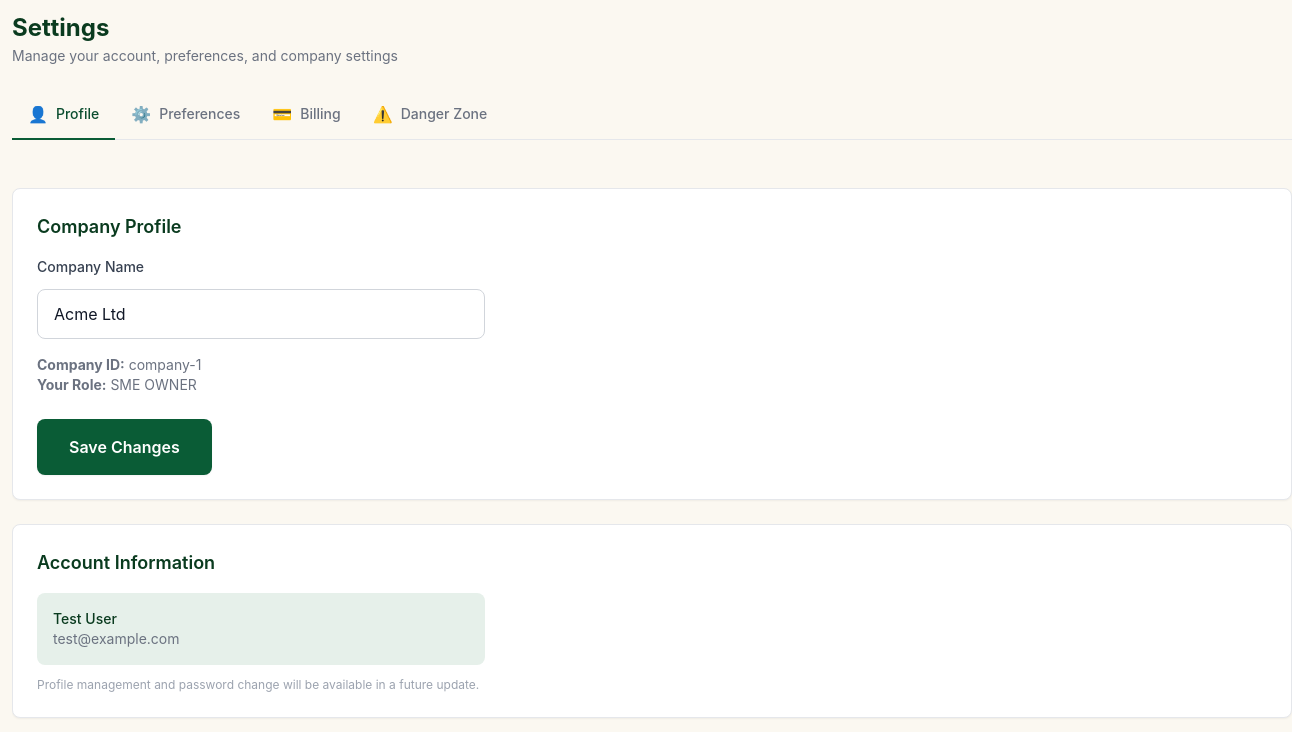
Scenario: Settings Page › switches to Preferences tab when clicked
Click the text "Preferences" at point(200, 114), box [159,104,240,124]
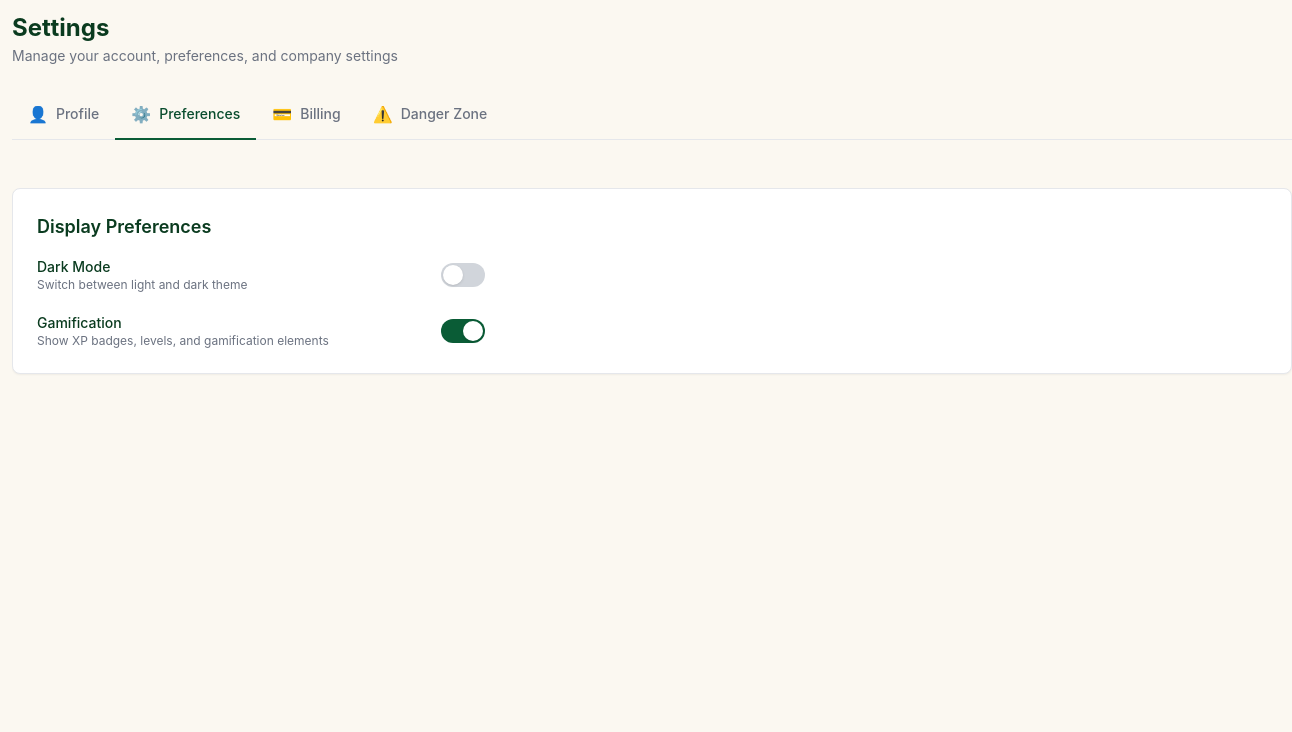
Expected: the heading "Display Preferences" is shown, [37,213,211,241]
Expected: the text "Dark Mode" is shown, [37,258,110,275]
Expected: the text "Gamification" is shown, [37,314,122,331]
